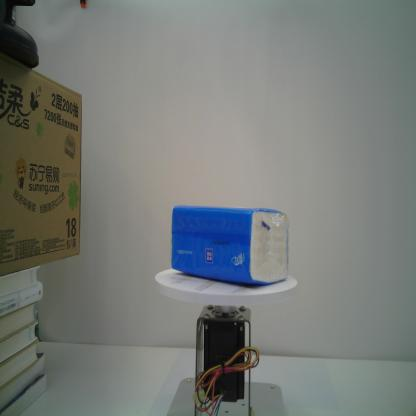Tissue: (168, 201, 289, 290)
